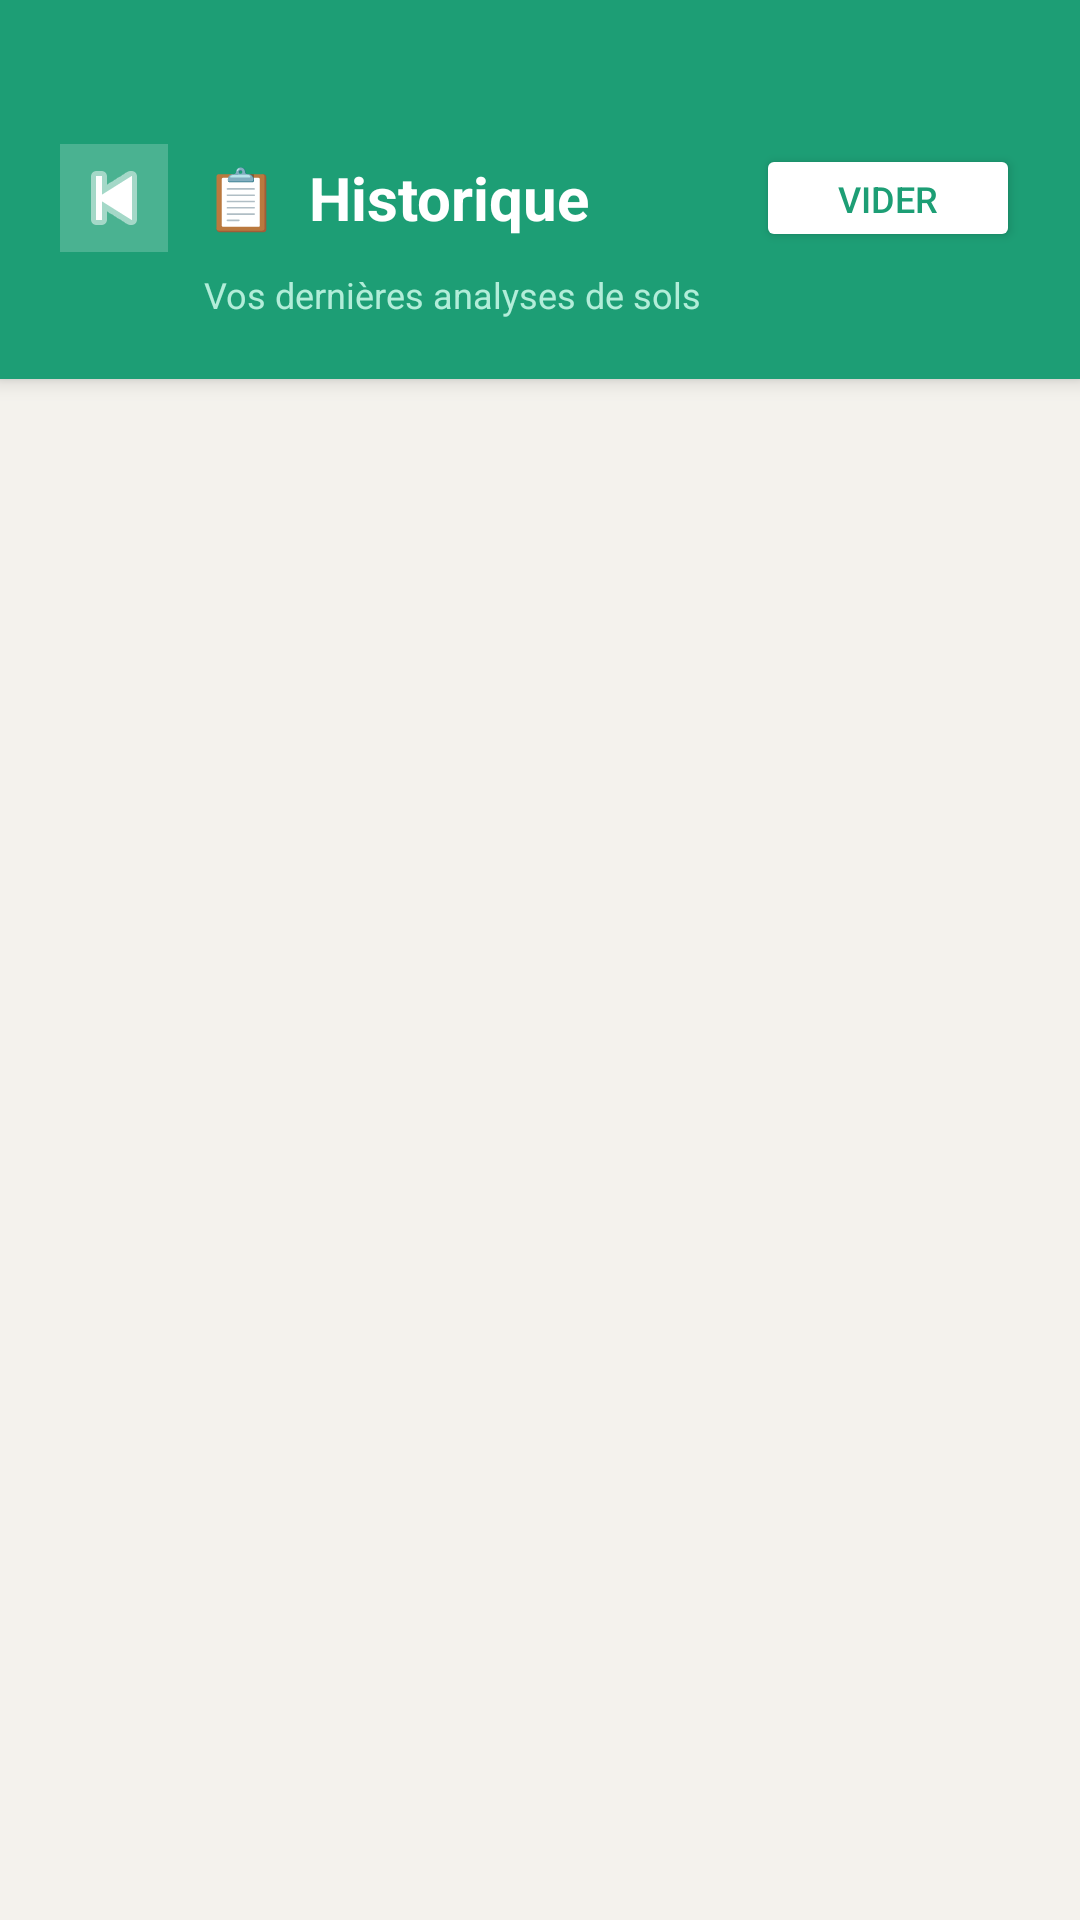

Where to tap for icons on this 1080px x 1920px app screen, as (x=x, y=y):
Retour: (x=114, y=198)
